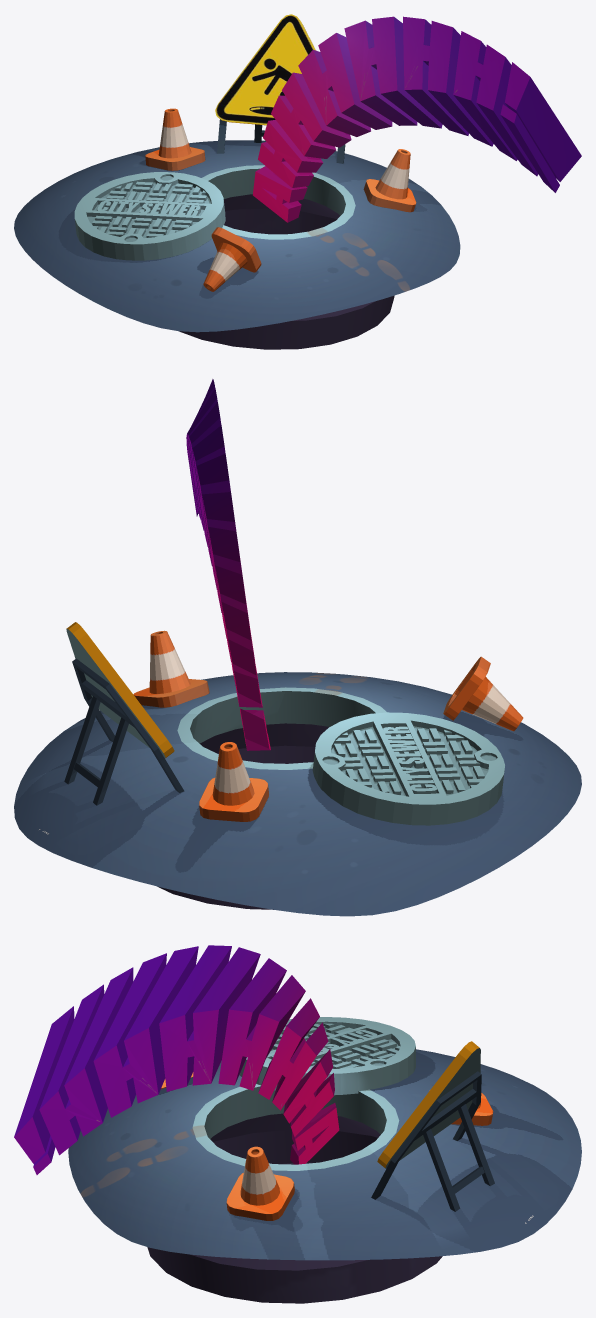
The model's file is Fall.obj.
3 renders of one model, top to bottom at view 1: azimuth 30°, elevation 25°; view 2: azimuth 150°, elevation 25°; view 3: azimuth 270°, elevation 25°, orthographic. The views are drawn at different scales.
Visible parts, largest first — view 1: Cube; view 2: Cube; view 3: Cube.
Part boxes in pixels (bbox=[...]): Cube: bbox=[14, 14, 581, 349]; Cube: bbox=[14, 379, 581, 916]; Cube: bbox=[14, 945, 581, 1303].
Bounding box in the file's own units: 1.54 × 1.07 × 1.57.
